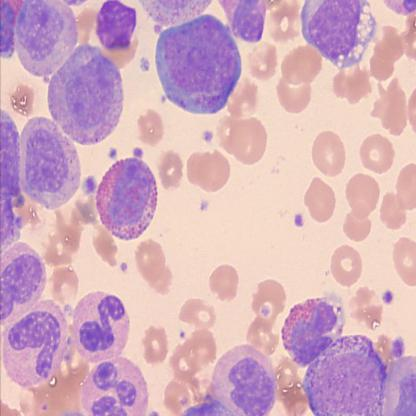Promyelocyte: (157, 13, 242, 118)
